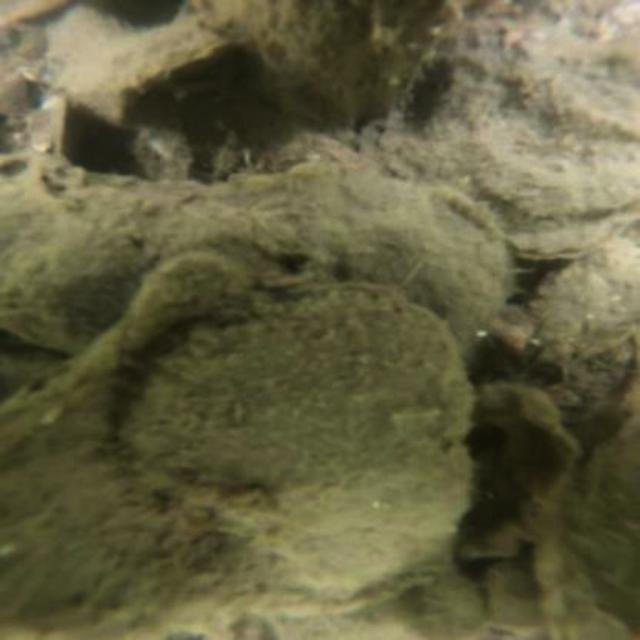Oyster-Closed: (126, 290, 469, 592), (0, 153, 505, 346), (387, 1, 639, 263), (172, 0, 470, 130), (529, 408, 640, 640), (43, 17, 237, 131), (525, 237, 639, 424)
